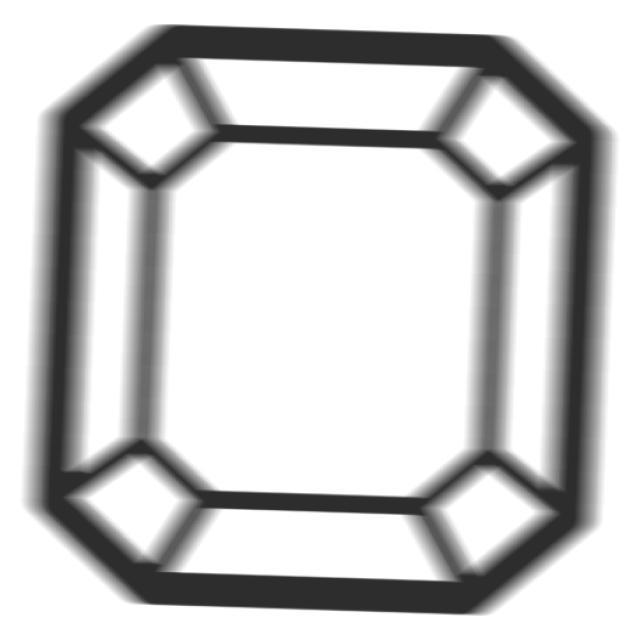emerald: (19, 19, 623, 622)
